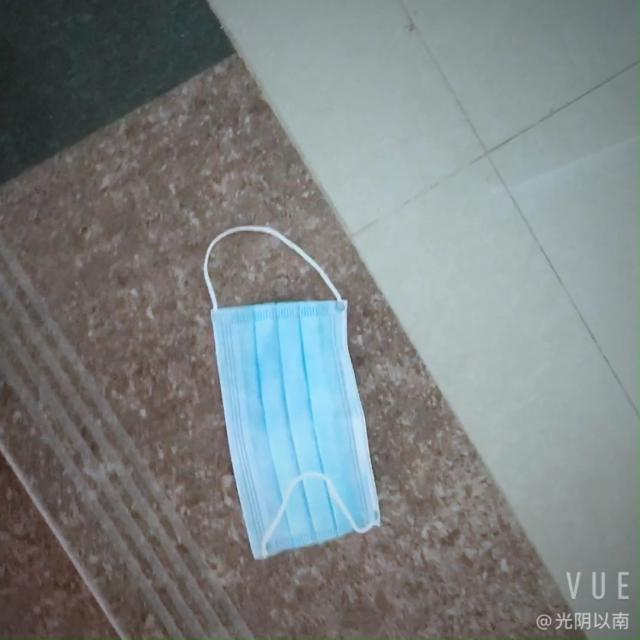non-organic waste: (208, 289, 374, 576)
